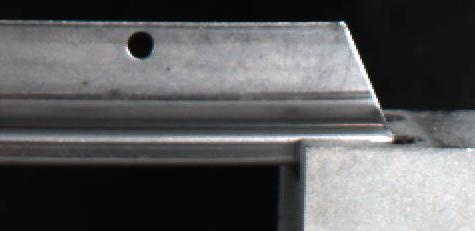cut: (260, 18, 399, 163)
holes: (126, 31, 155, 60)
